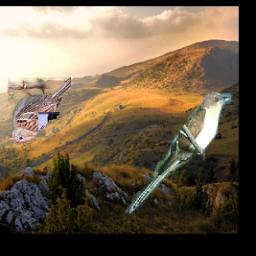Crow: (39, 112, 75, 204)
Cuckoo: (126, 92, 234, 219)
Sparrow: (8, 78, 71, 145)
